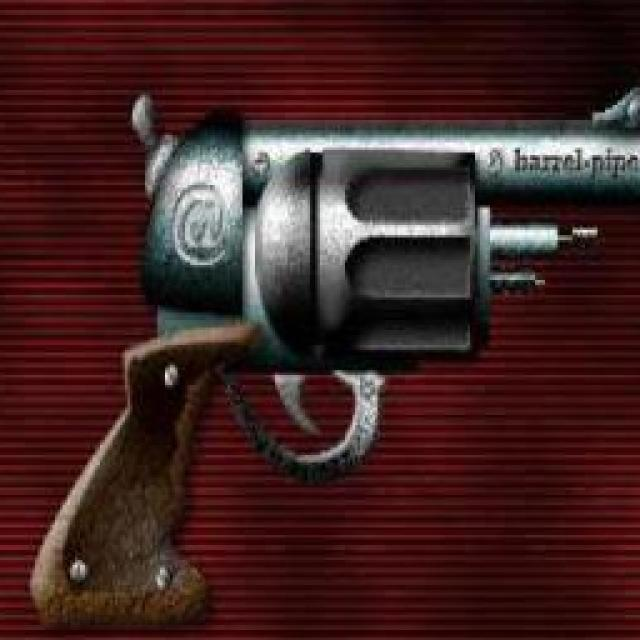pistol: (10, 90, 640, 640)
